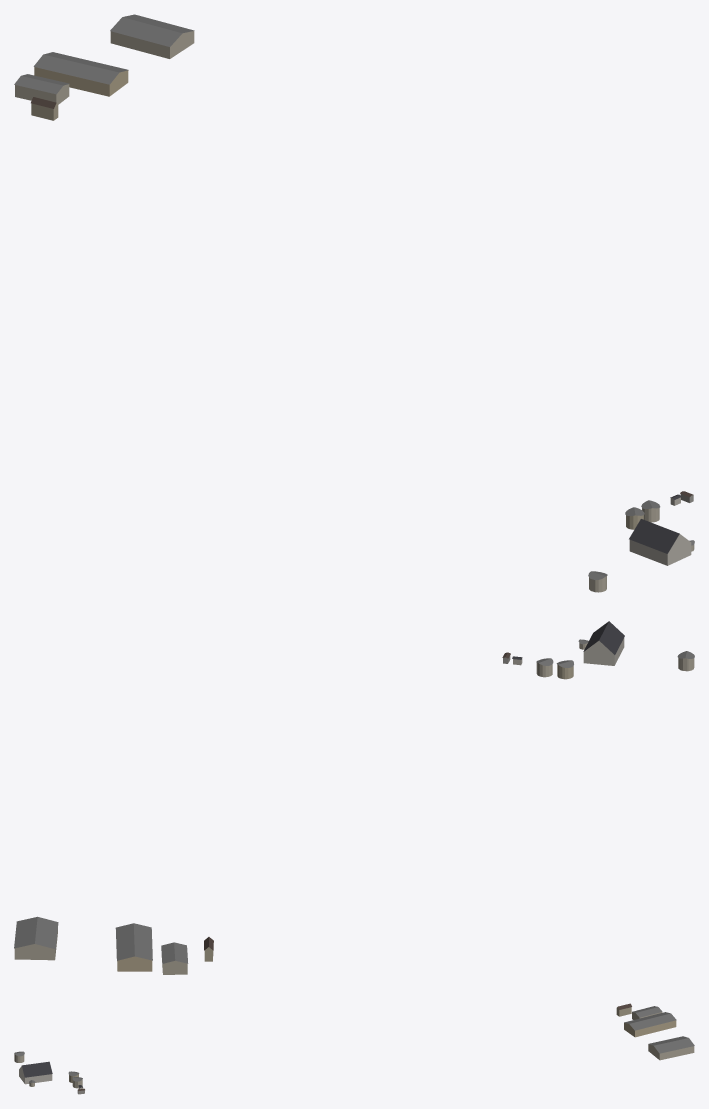
The picture shows the model from 3 angles, top to bottom: view 1: azimuth 30°, elevation 25°; view 2: azimuth 150°, elevation 25°; view 3: azimuth 270°, elevation 25°; orthographic projection. The views are drawn at different scales.
Parts seen in each view (by area): view 1: buildings; view 2: buildings; view 3: buildings.
Part boxes in pixels (x1,y1,x2,y2): buildings: (14,14,694,592); buildings: (14,621,694,974); buildings: (14,1003,694,1094).
Size of the model in its own units: 95.54 by 48.58 by 527.
